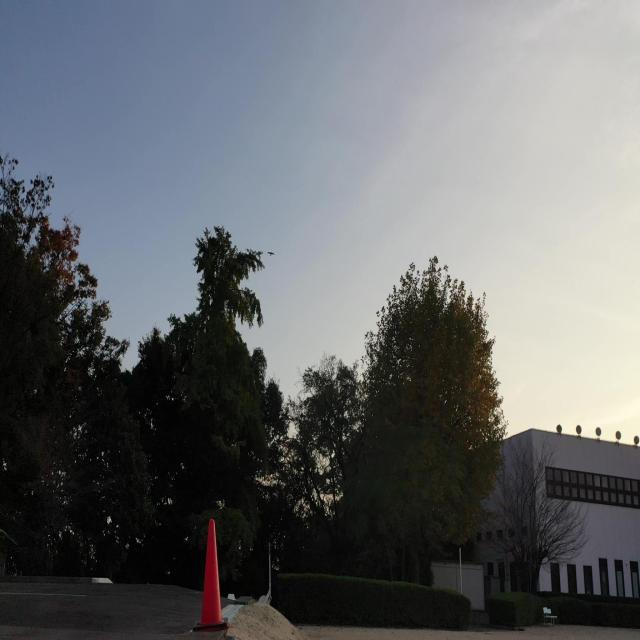Birds: (265, 248, 276, 258)
